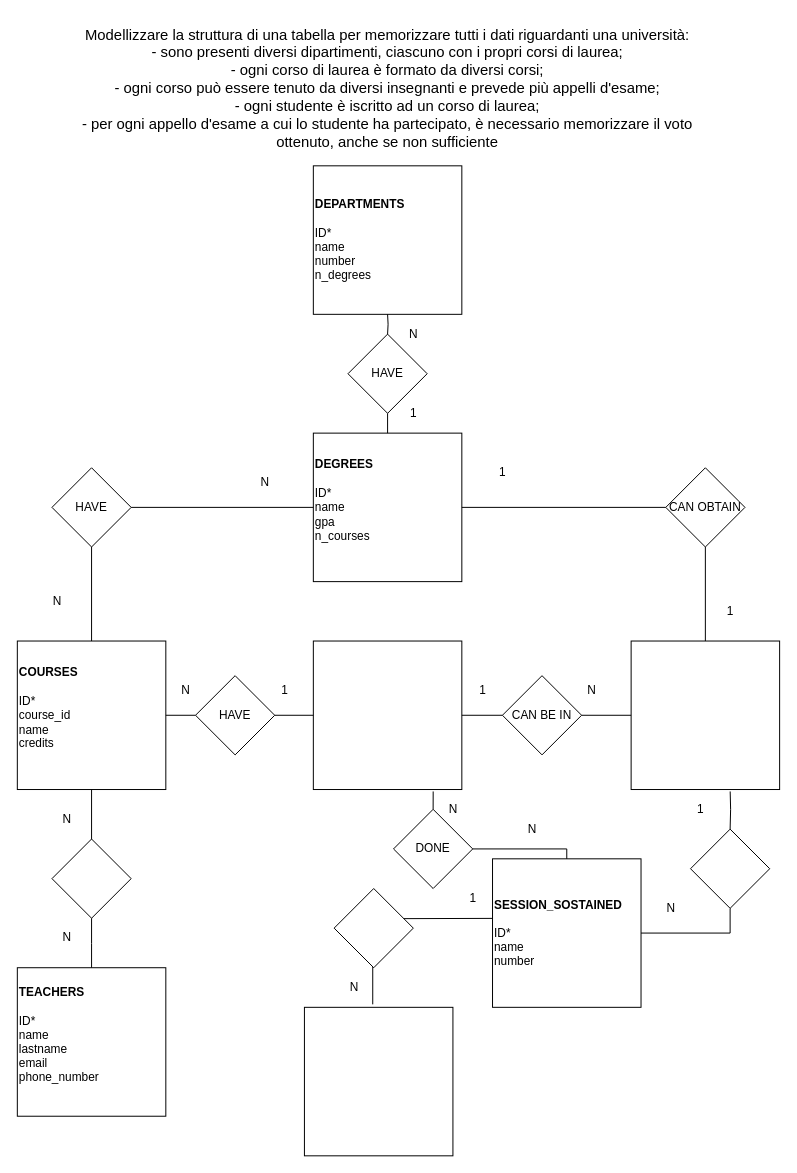
Some shapes in this 797 by 1173 pixel diagram are drawn without their labels. The shapes that lost their labels are listed below. From the top down, each one's centre as x and y in pixels, then its label:
At point 387,715: "SESSIONS ID* name start_date end_date".
At point 705,715: "STUDENT ID* name lastname email phone_number student_id".
At point 91,878: "TEACH".
At point 730,868: "HAS SOSTAINED".
At point 373,928: "GOT".
At point 378,1081: "GRADES ID* score".
